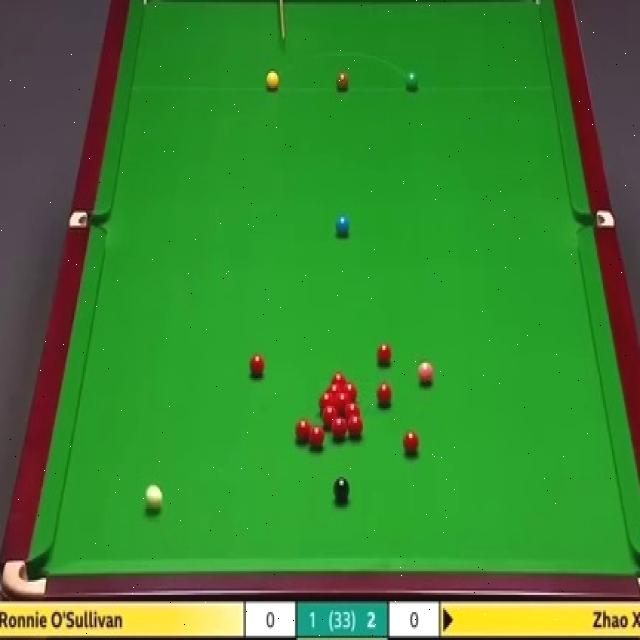black-ball: (333, 476, 350, 504)
blue-ball: (335, 215, 350, 234)
brown-ball: (335, 73, 350, 91)
green-ball: (405, 69, 420, 94)
pink-ball: (418, 360, 434, 386)
red-ball: (376, 384, 394, 408), (403, 429, 418, 456), (250, 353, 264, 380), (377, 343, 392, 368), (336, 392, 352, 415), (322, 404, 337, 428), (332, 417, 348, 439), (295, 418, 311, 440), (311, 425, 324, 449), (318, 394, 335, 412), (348, 417, 362, 438), (342, 383, 357, 402), (345, 404, 361, 420), (326, 382, 343, 396), (331, 371, 347, 384)
white-ball: (145, 484, 163, 512)
yellow-ball: (265, 70, 280, 92)
